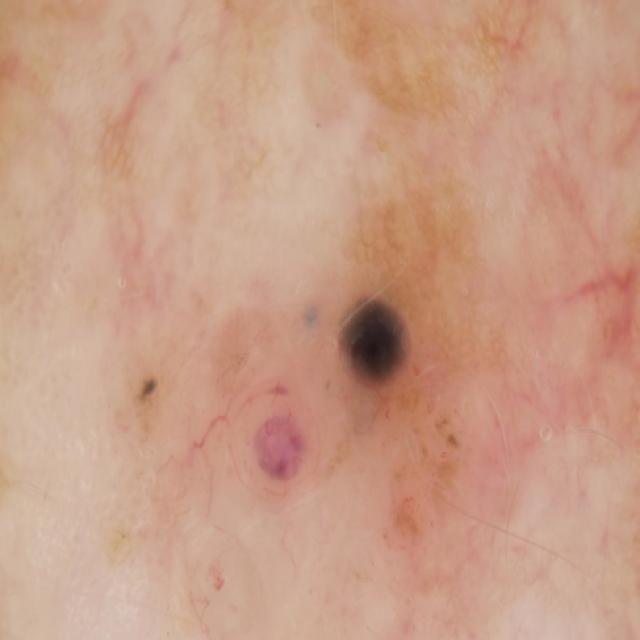Carcinoma: (327, 261, 453, 423), (229, 386, 318, 552)
